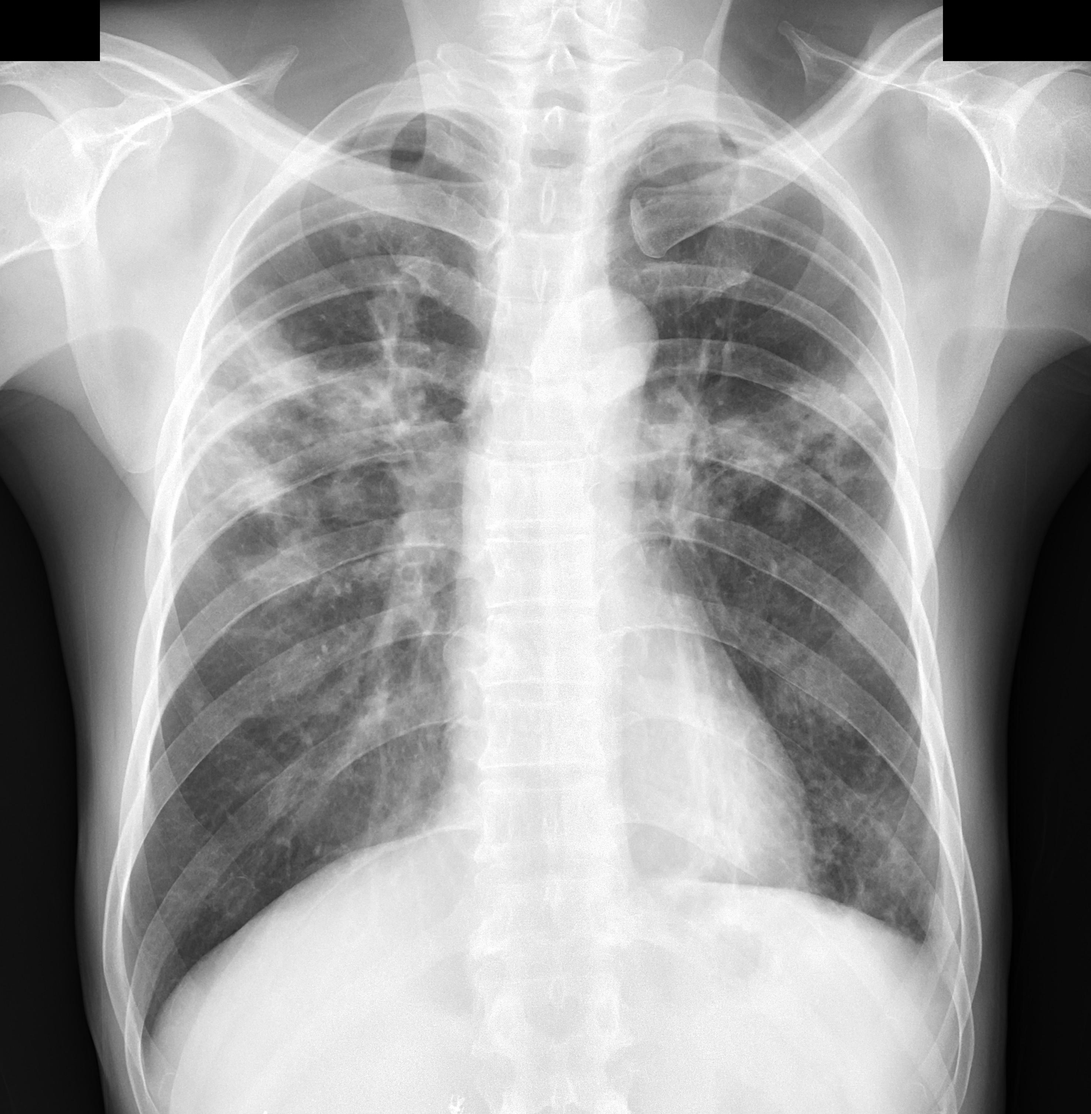Pleural thickening: (904, 884, 967, 999)
Pulmonary fibrosis: (154, 281, 423, 599), (682, 335, 897, 526), (682, 153, 756, 208)
